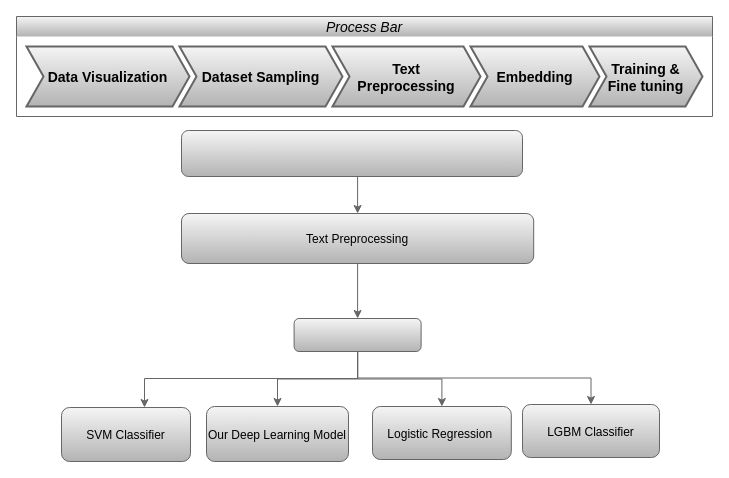
This 729x478 diagram has some shape labels left out. The centre of each missing label's shape, as x and y in pixels:
Plot Summaries: the point at 351,153
TFIDF: the point at 357,335
